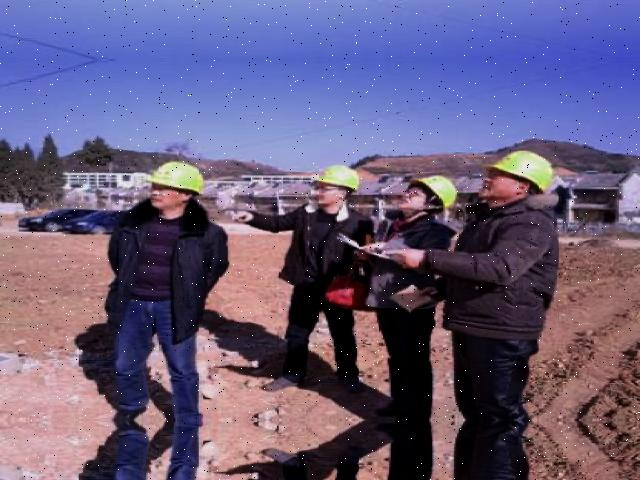Helmet: (488, 145, 559, 199), (151, 156, 211, 200), (408, 171, 464, 213), (312, 159, 367, 196)
